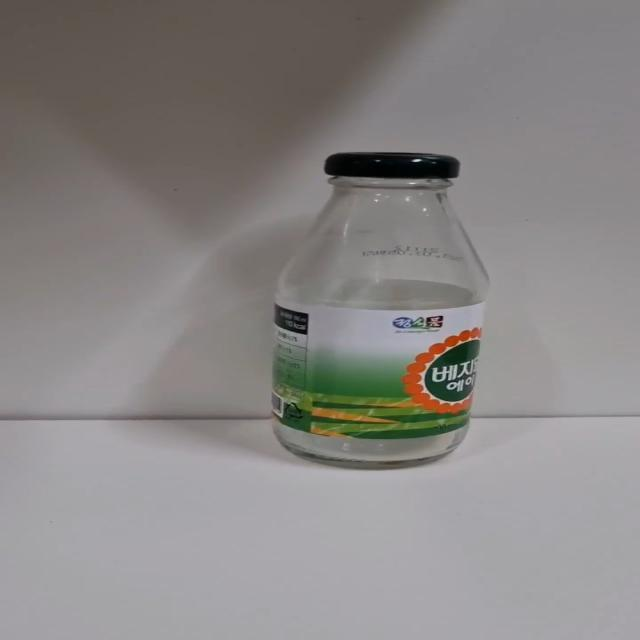Glass: (280, 150, 488, 468)
